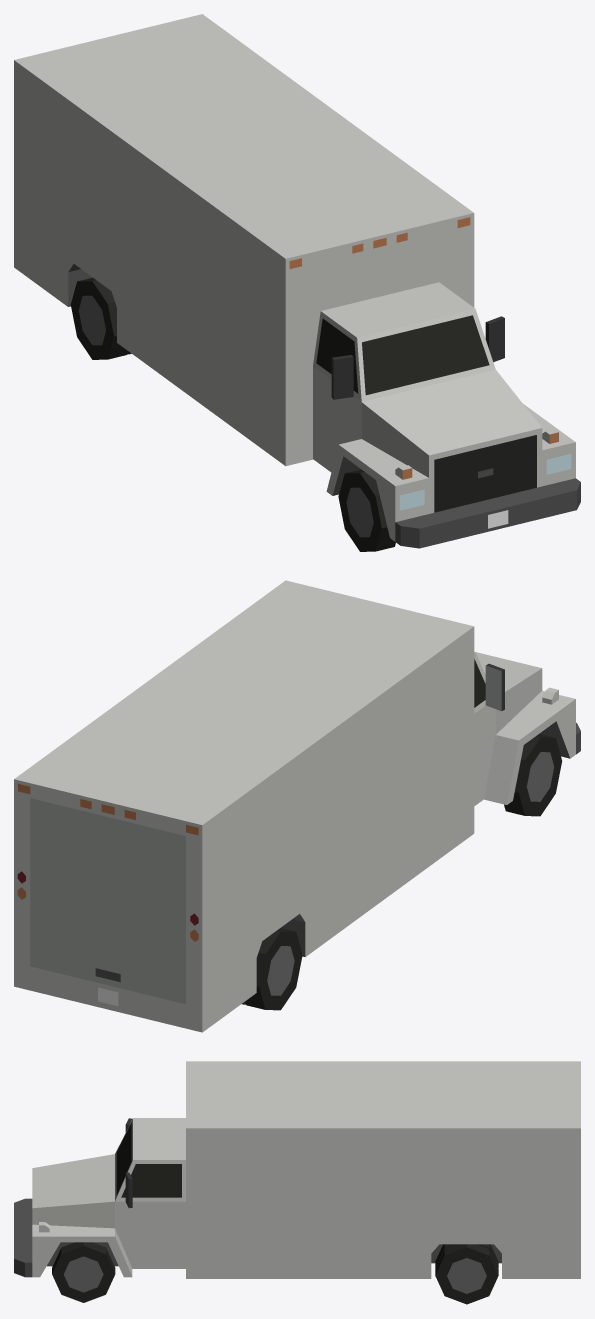
The model's file is Veh_Truck_01_White.obj.
The picture shows the model from 3 angles, top to bottom: view 1: azimuth 30°, elevation 25°; view 2: azimuth 150°, elevation 25°; view 3: azimuth 270°, elevation 25°; orthographic projection. The views are drawn at different scales.
Size of the model in its own units: 1.35 by 1.66 by 4.85.
